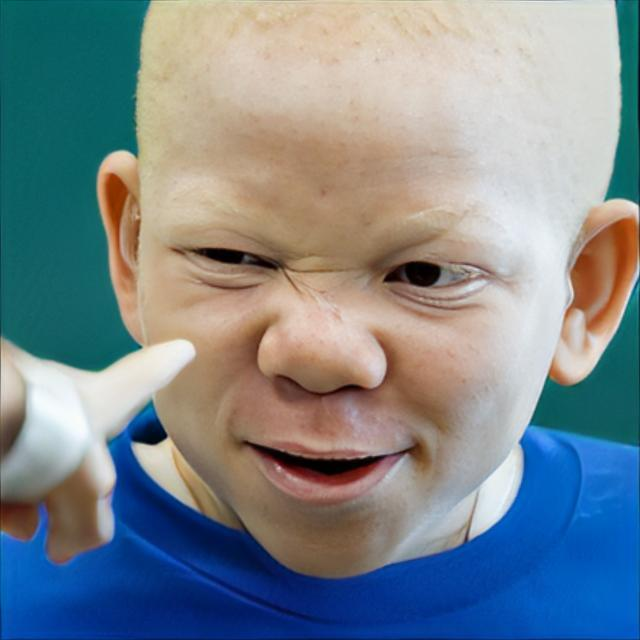anger: (130, 39, 557, 578)
